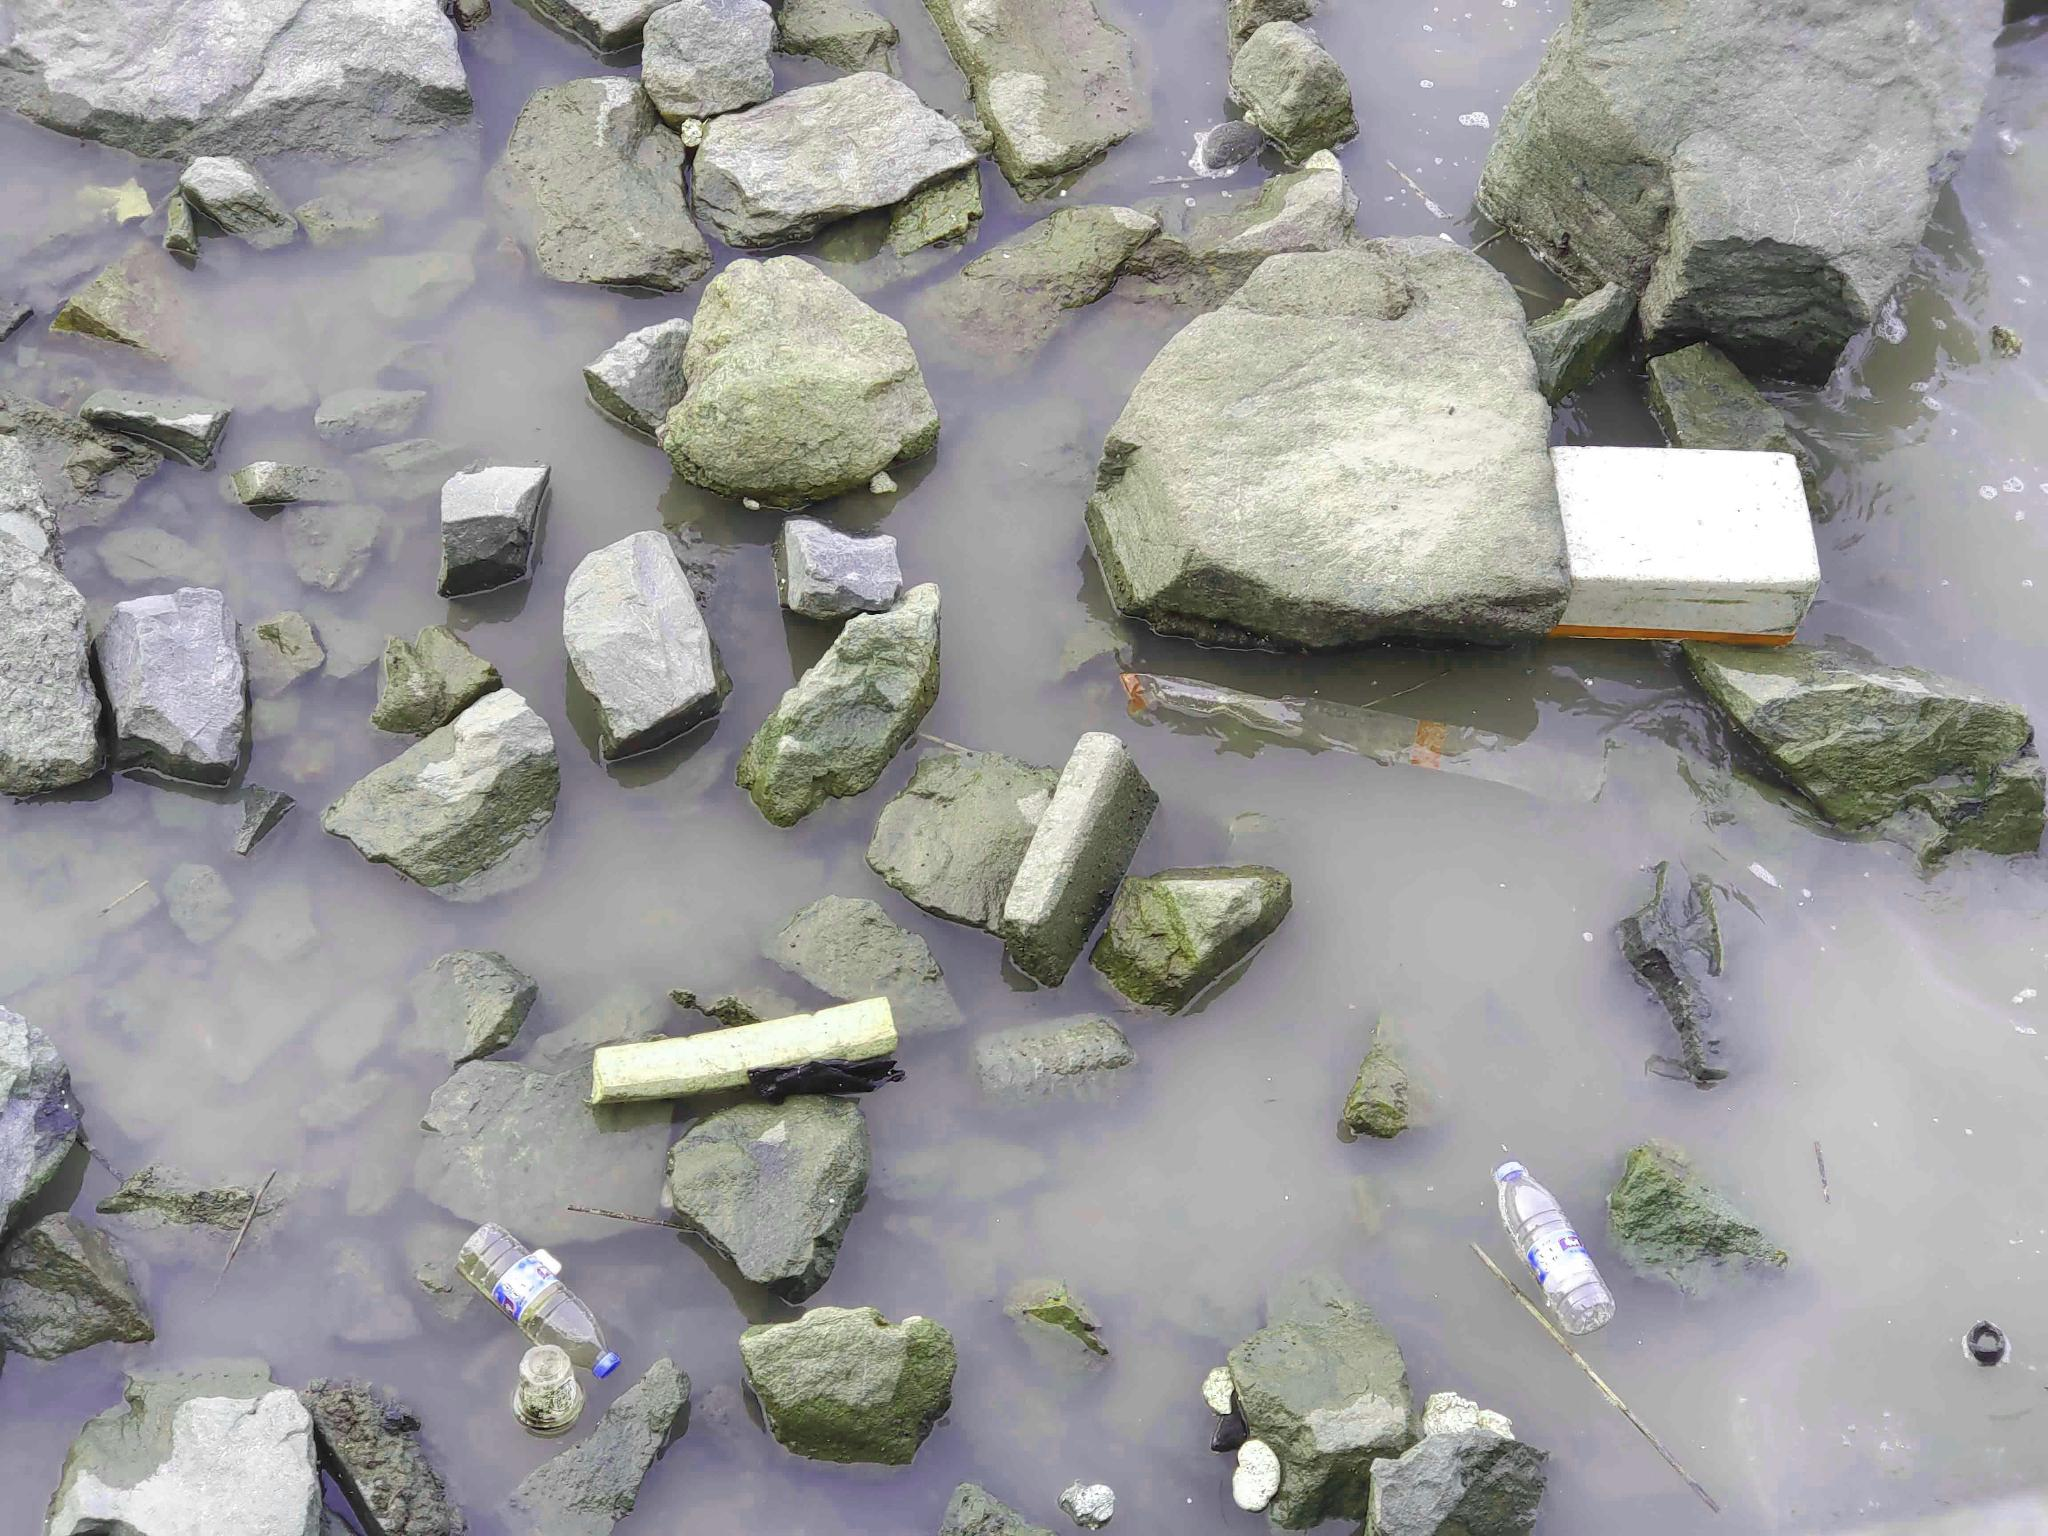Plastic: (445, 1220, 622, 1376), (1492, 1155, 1616, 1339)
Trash: (1559, 440, 1821, 641), (513, 1341, 582, 1428)
